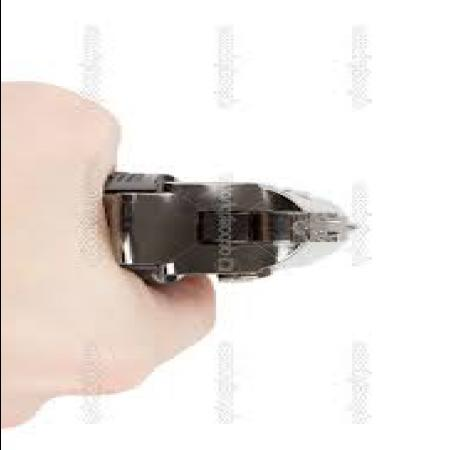Pistol: (104, 169, 346, 283)
